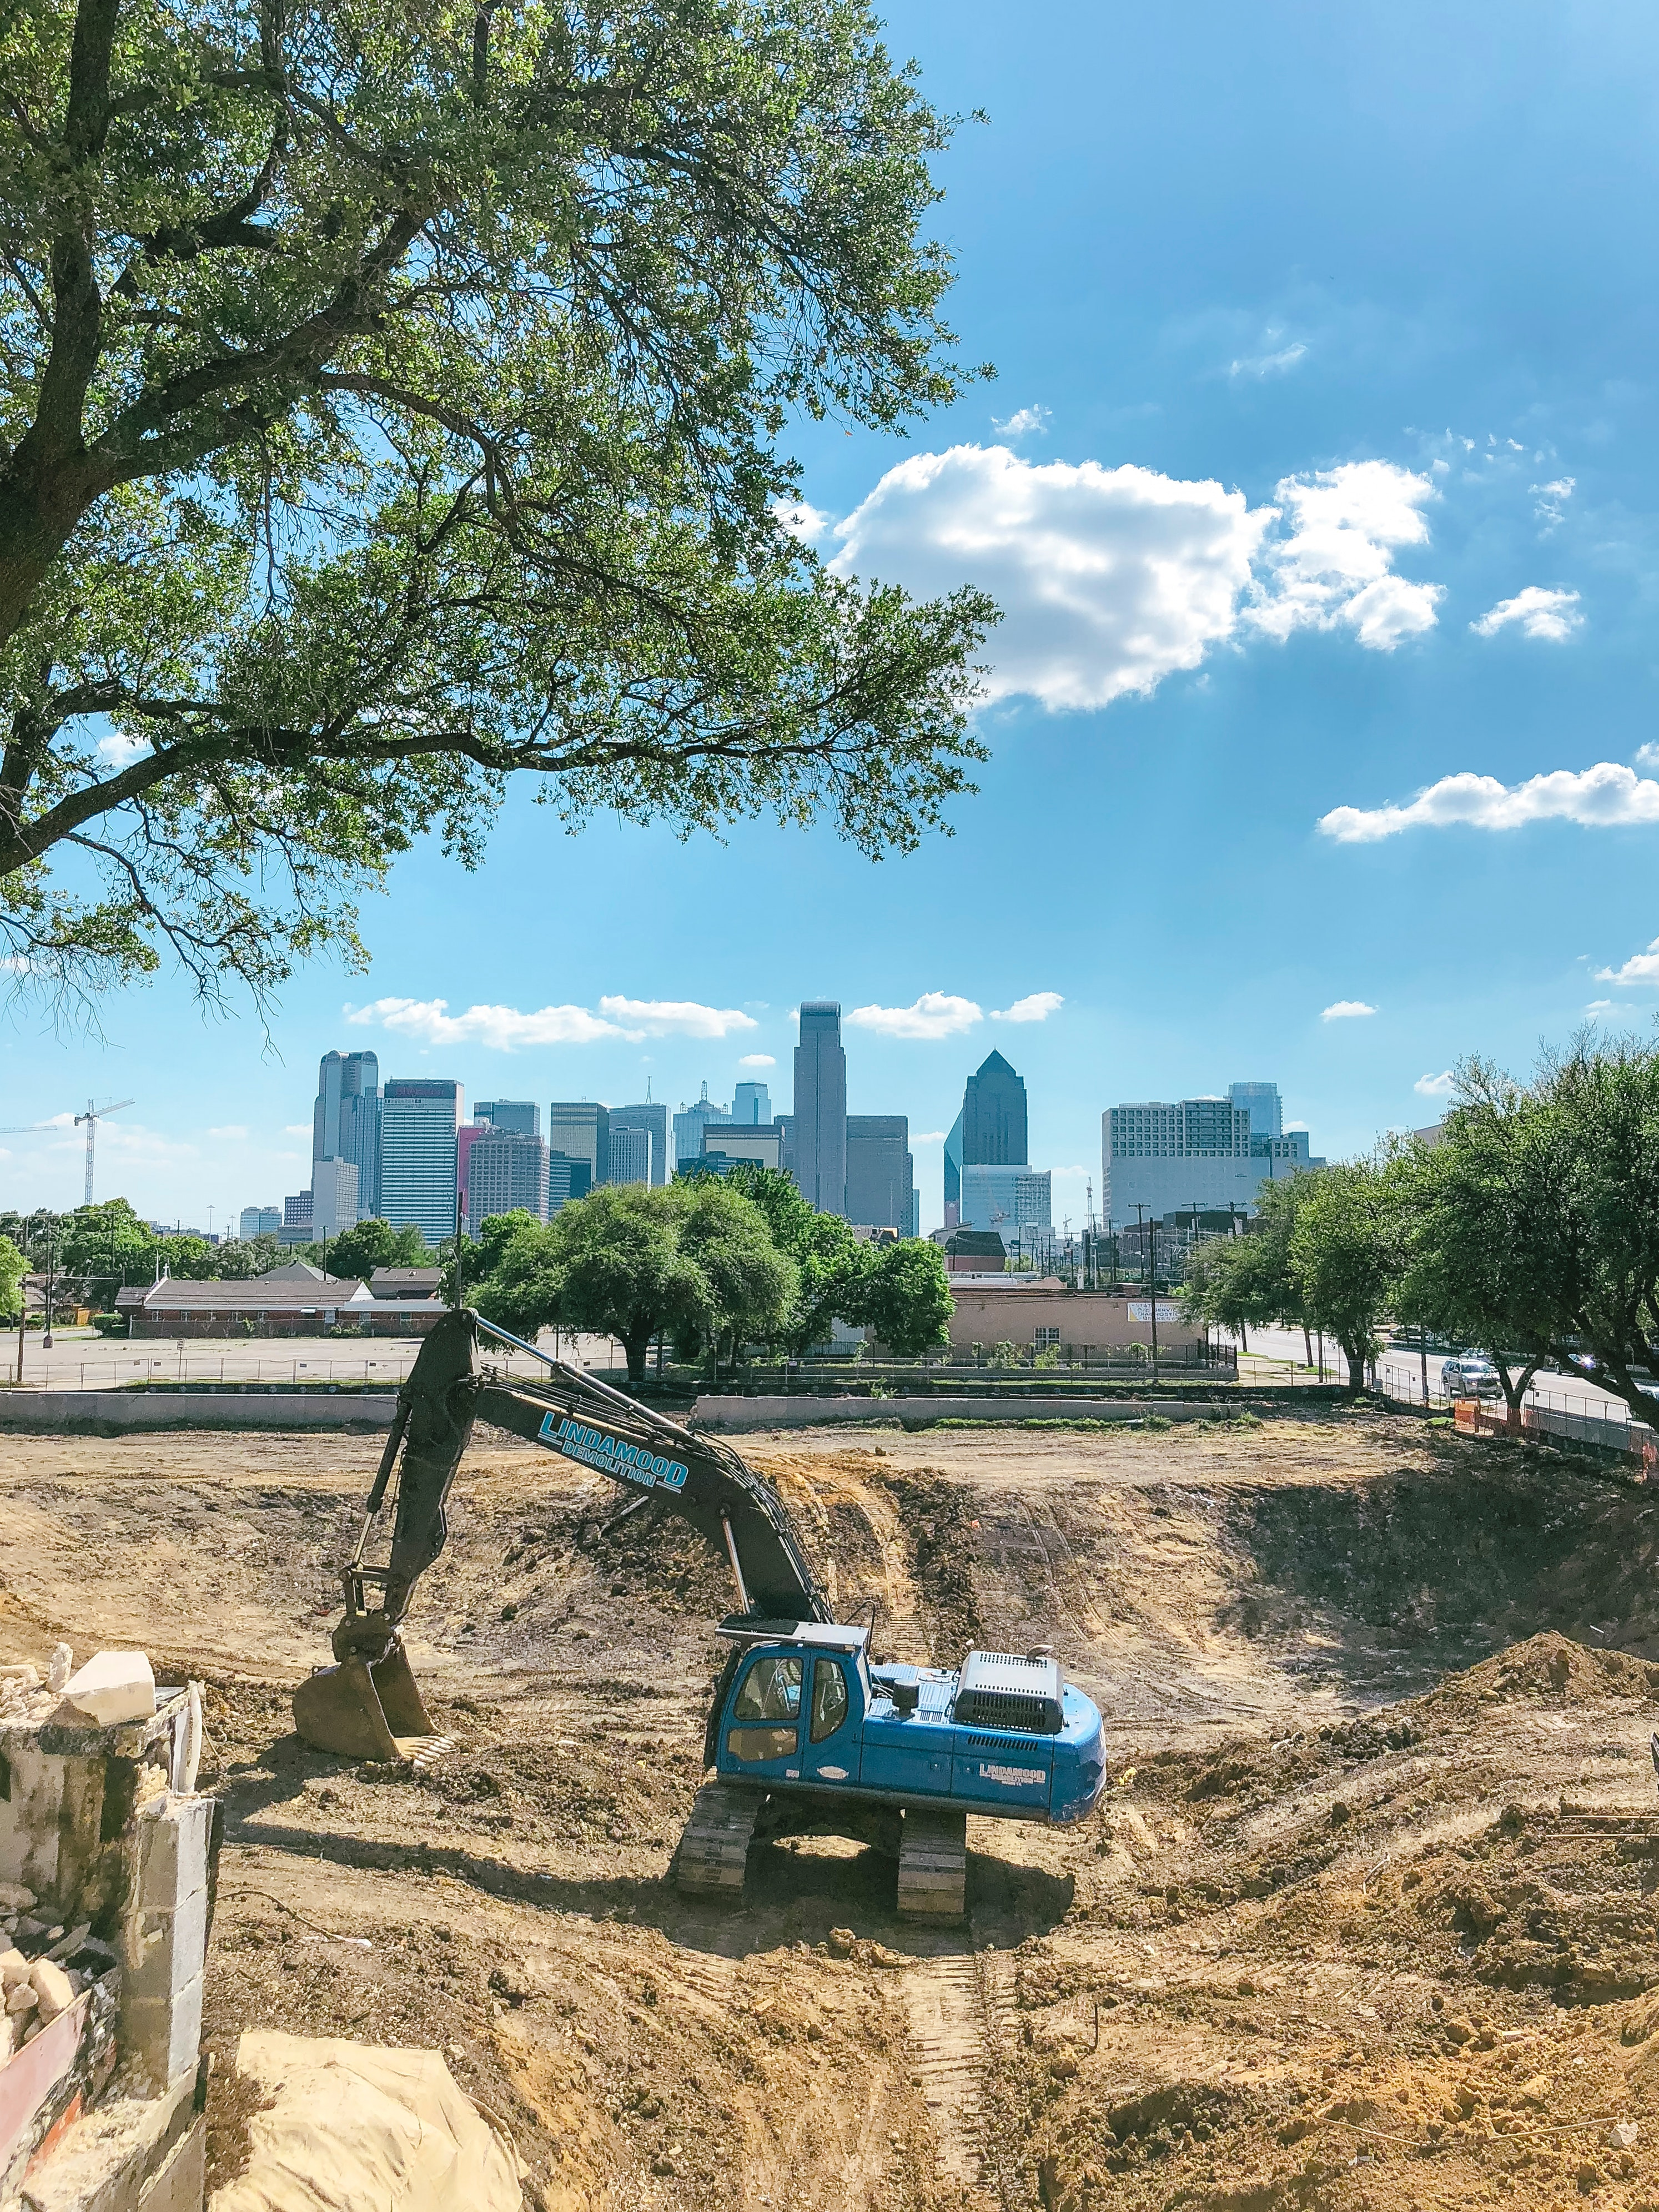excavator: (293, 1305, 1140, 1951)
